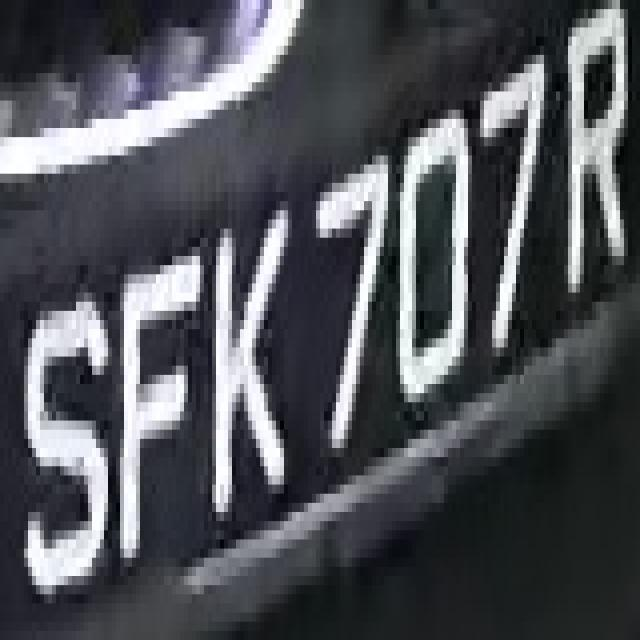0: (388, 110, 476, 420)
7: (468, 55, 552, 402), (304, 146, 388, 466)
F: (100, 210, 204, 576)
K: (196, 183, 288, 558)
R: (560, 0, 632, 347)
S: (16, 274, 112, 613)
